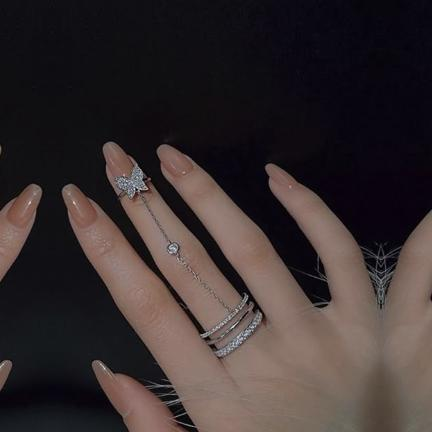Nail: (91, 360, 130, 417), (61, 184, 96, 228), (6, 184, 41, 228), (156, 145, 192, 177), (102, 142, 133, 178), (264, 163, 297, 189), (0, 360, 11, 389)
